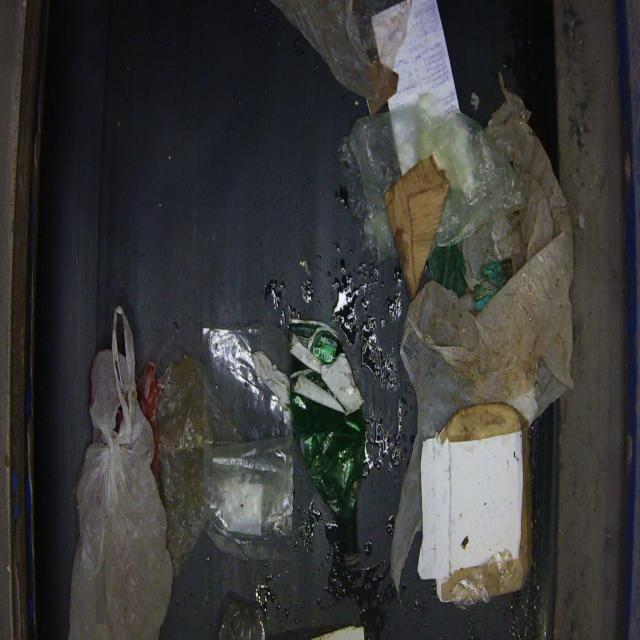cups: (416, 401, 533, 607)
